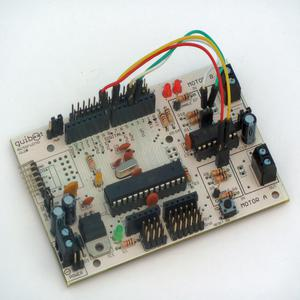duino: (9, 43, 286, 286)
